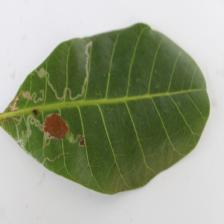leaf miner: (0, 21, 211, 195)
